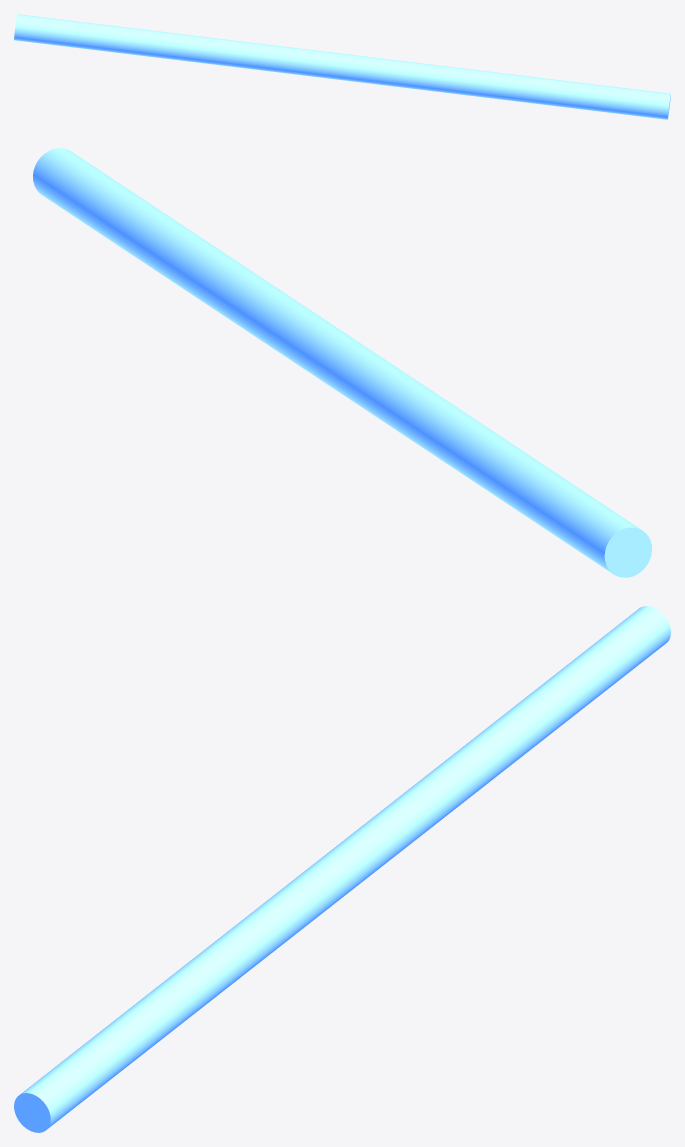
The picture shows the model from 3 angles, top to bottom: view 1: azimuth 30°, elevation 25°; view 2: azimuth 150°, elevation 25°; view 3: azimuth 270°, elevation 25°; orthographic projection. The views are drawn at different scales.
Parts seen in each view (by area): view 1: CylinderObject; view 2: CylinderObject; view 3: CylinderObject.
Part boxes in pixels (bbox=[...]): CylinderObject: bbox=[14, 14, 670, 119]; CylinderObject: bbox=[33, 148, 651, 577]; CylinderObject: bbox=[14, 606, 670, 1132].
Size of the model in its own units: 8.46 by 1.39 by 5.92.
